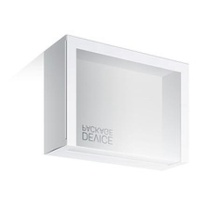plastic_box: (35, 29, 195, 177)
